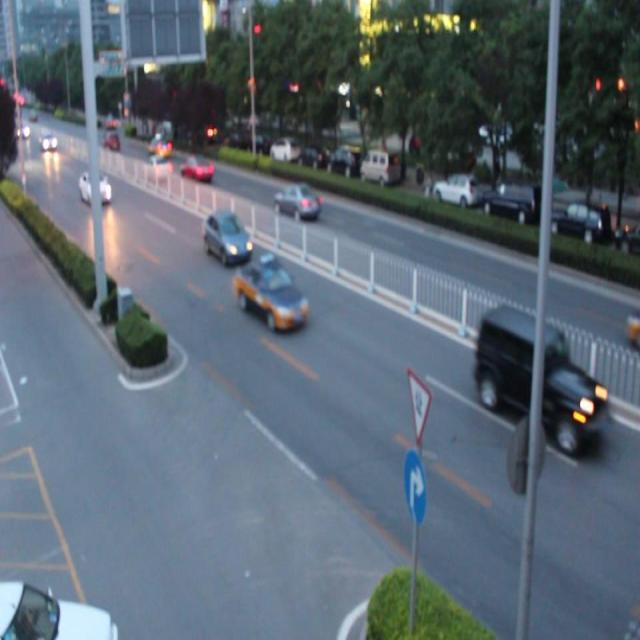car: (479, 310, 603, 441), (1, 577, 117, 640), (238, 262, 306, 328), (203, 210, 250, 258), (276, 184, 318, 219), (78, 172, 111, 201), (179, 155, 213, 179), (144, 156, 173, 179)
